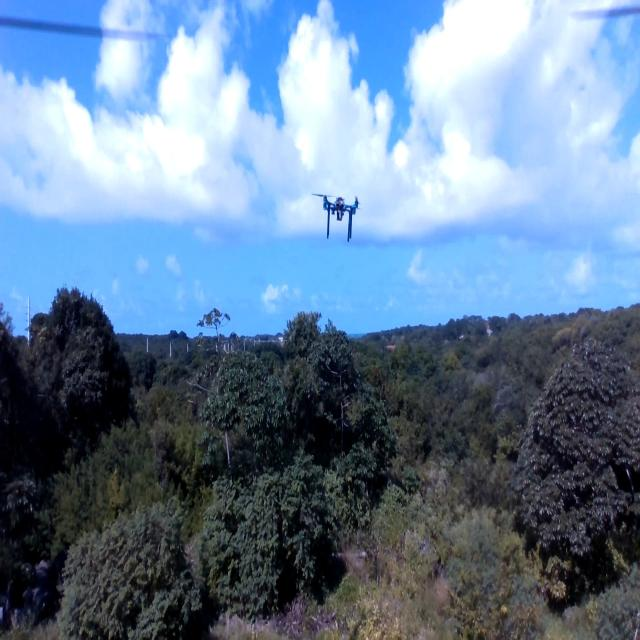-uav-: (310, 176, 365, 252)
